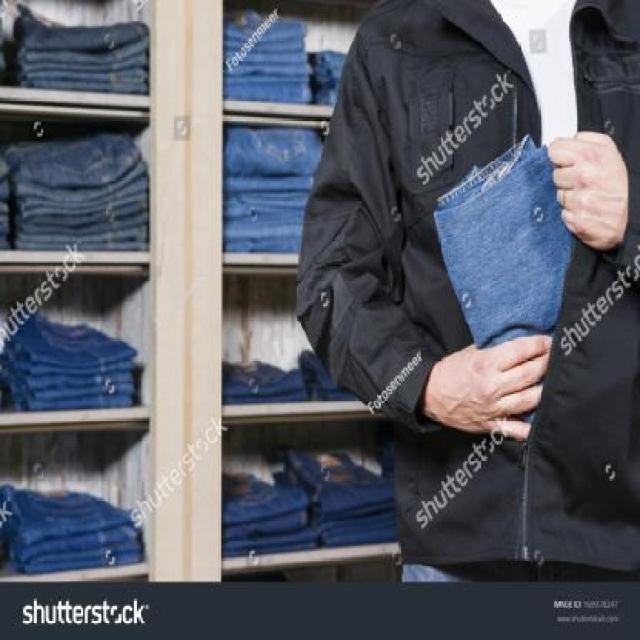Shoplifting: (334, 53, 638, 468)
